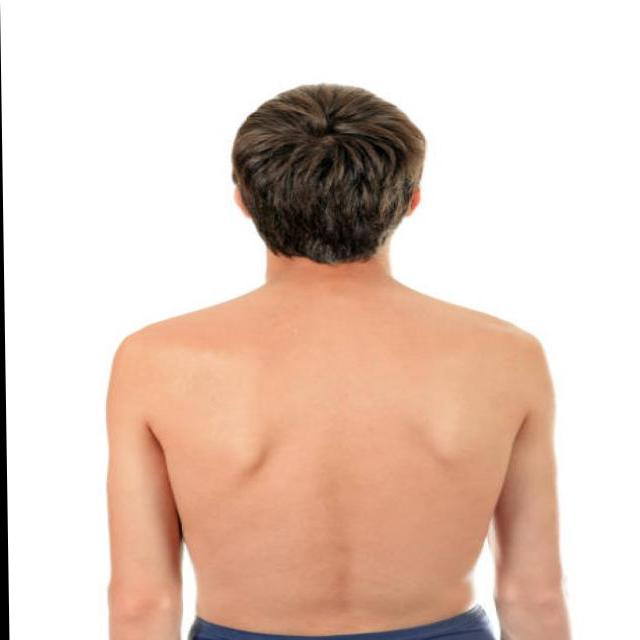no helmet: (207, 75, 423, 276)
